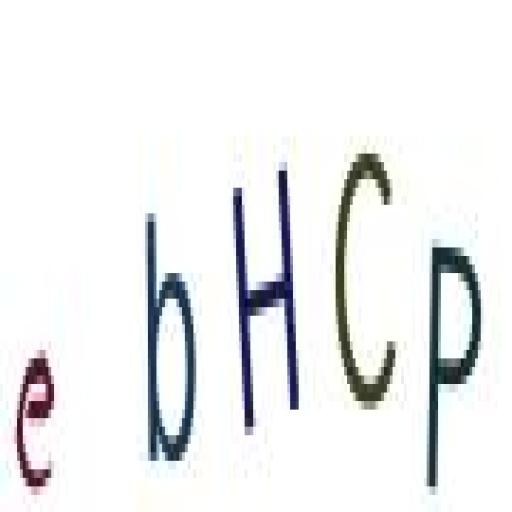C: (328, 142, 400, 421)
H: (228, 150, 306, 440)
P: (424, 225, 480, 491)
b: (142, 200, 200, 478)
e: (13, 340, 59, 498)
